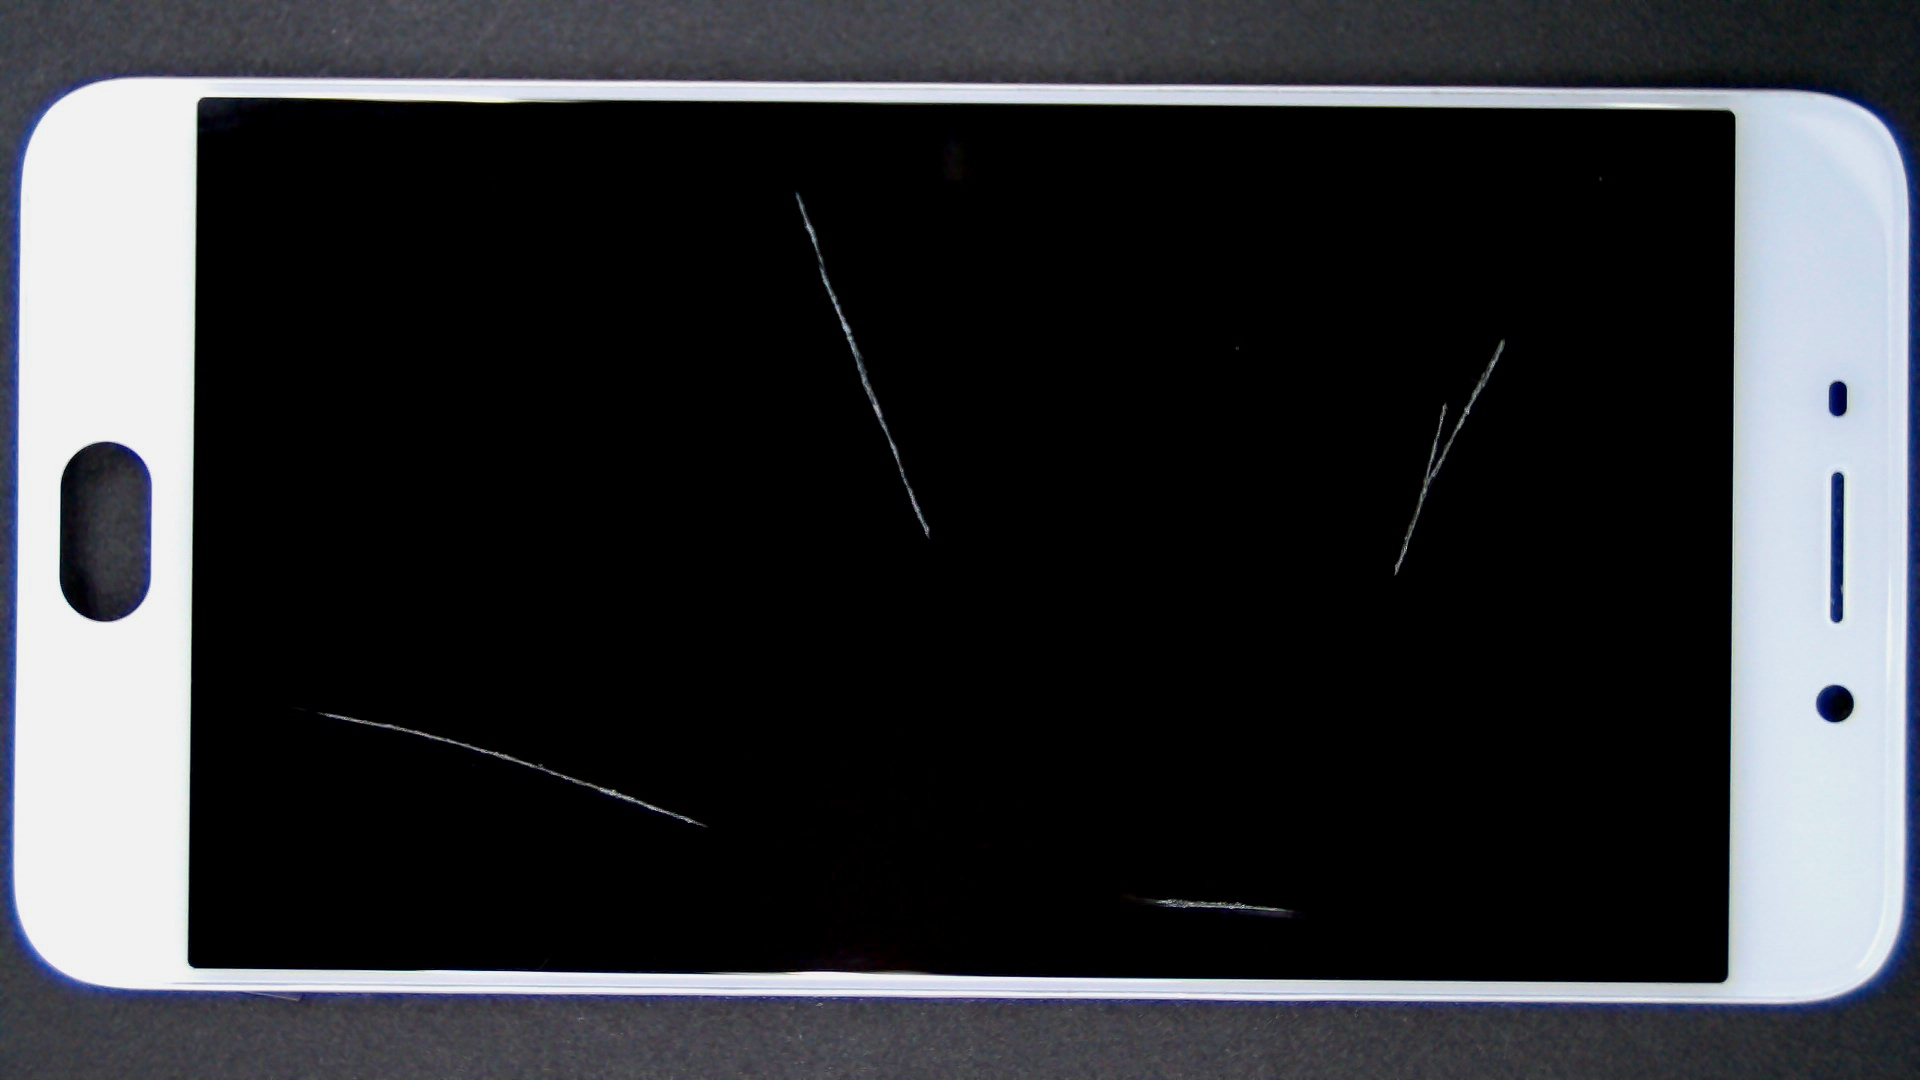oil: (559, 444, 1688, 1080), (752, 167, 1920, 508), (145, 352, 436, 1059), (400, 94, 1195, 286)
